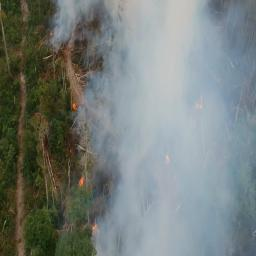Heavy smoke: (113, 3, 231, 256)
Small fire: (88, 218, 103, 236), (71, 99, 85, 117), (76, 172, 88, 188)
